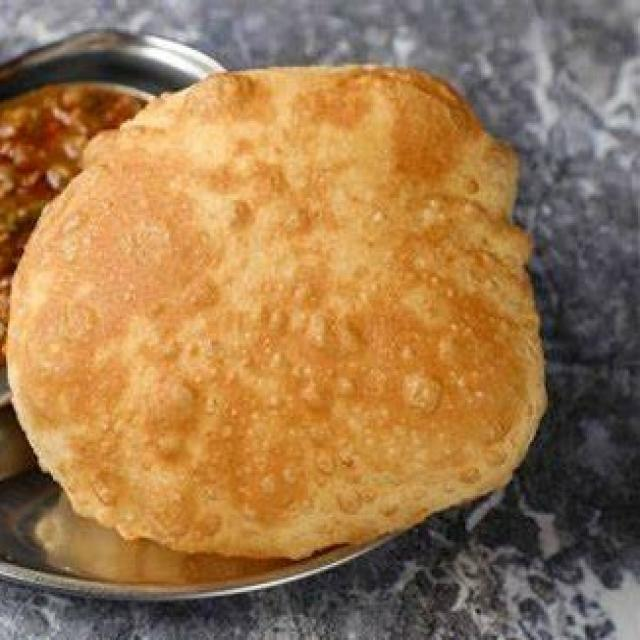Bhatura: (6, 65, 548, 553)
